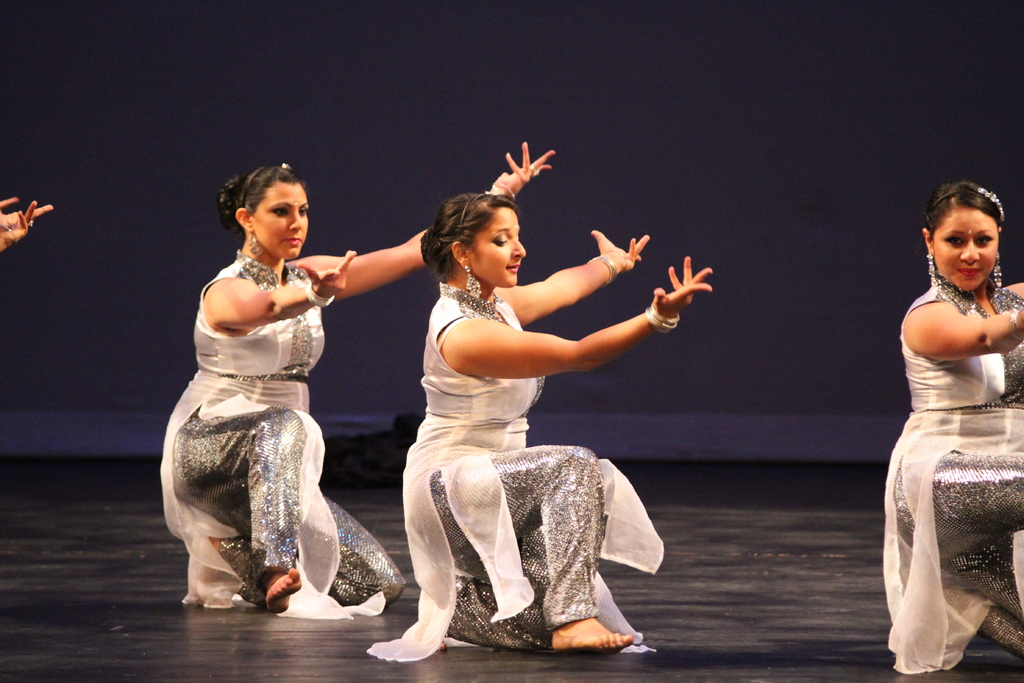Person: (0, 141, 1023, 674)
